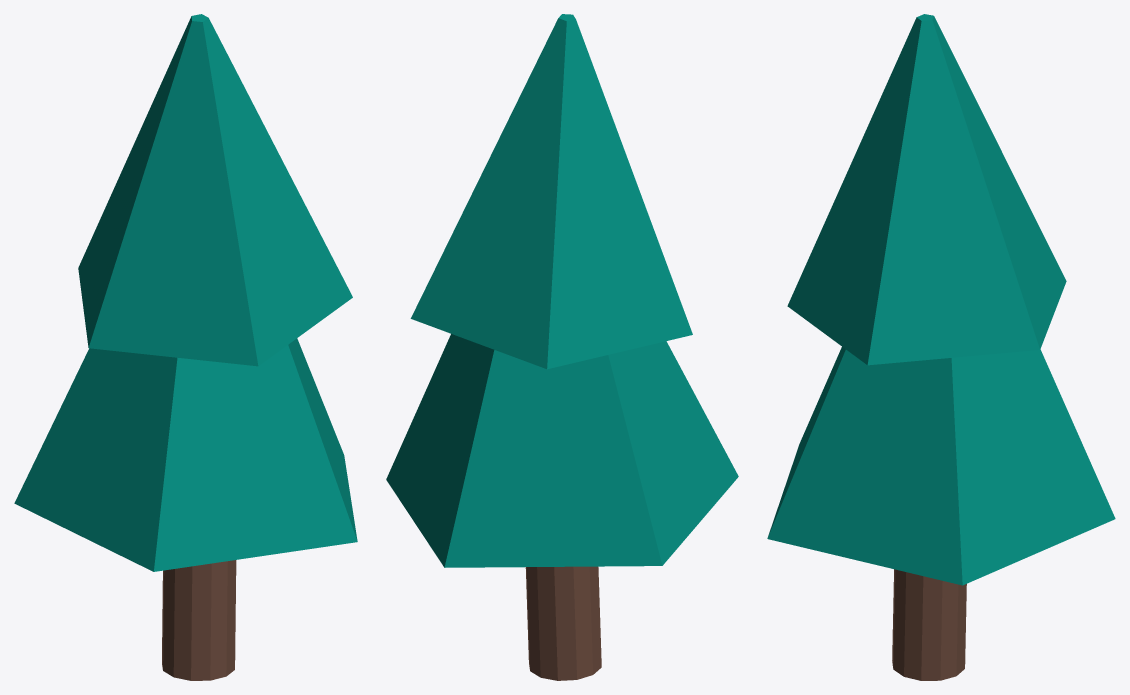
Rendered from tree.glb.
3 renders of one model, left to right at view 1: azimuth 30°, elevation 25°; view 2: azimuth 150°, elevation 25°; view 3: azimuth 270°, elevation 25°, orthographic.
Visible parts, largest first — view 1: tree; view 2: tree; view 3: tree.
Boxes of the visible parts, x1,y1,x2,y2 form: tree: (14, 14, 357, 680); tree: (386, 14, 738, 680); tree: (767, 14, 1115, 680).
Bounding box in the file's own units: 0.00667 × 0.0136 × 0.00665.
